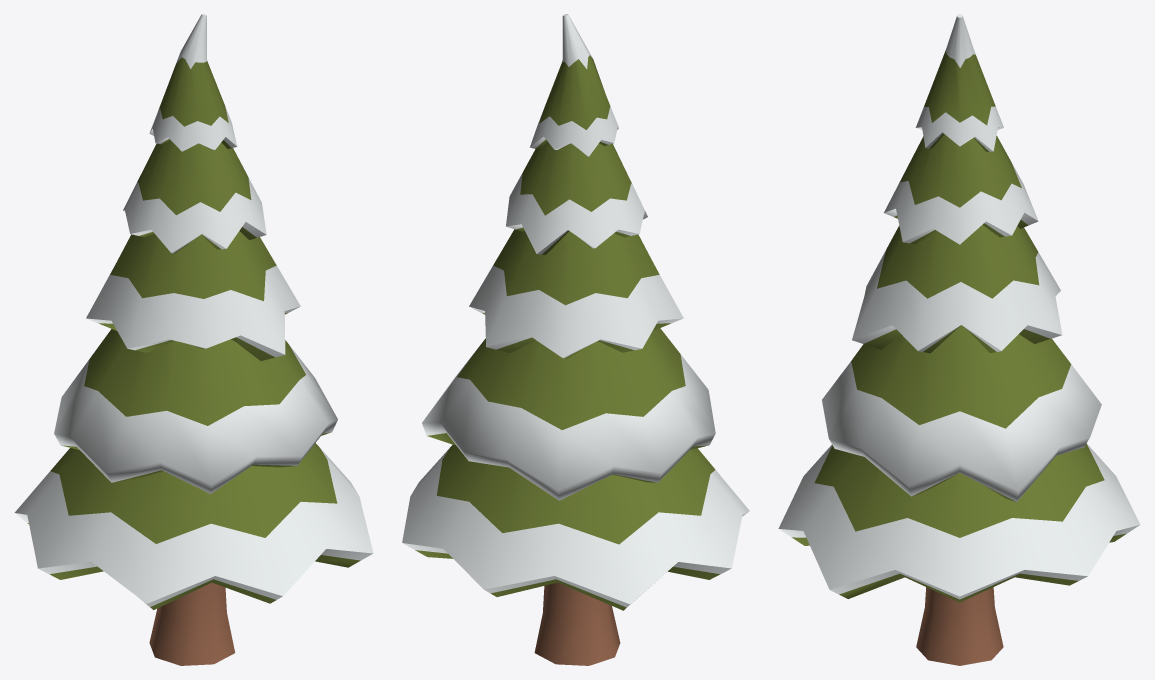
Rendered from Tree Spruce 2.fbx.
3 views of the same model, side by side, from view 1: azimuth 30°, elevation 25°; view 2: azimuth 150°, elevation 25°; view 3: azimuth 270°, elevation 25° (orthographic).
Visible parts, largest first — view 1: Tree Spruce 2; view 2: Tree Spruce 2; view 3: Tree Spruce 2.
Part boxes in pixels (x1,y1,x2,y2): Tree Spruce 2: (14, 14, 373, 665); Tree Spruce 2: (402, 14, 749, 665); Tree Spruce 2: (778, 14, 1140, 665).
Bounding box in the file's own units: 1632 × 3146 × 1618.
